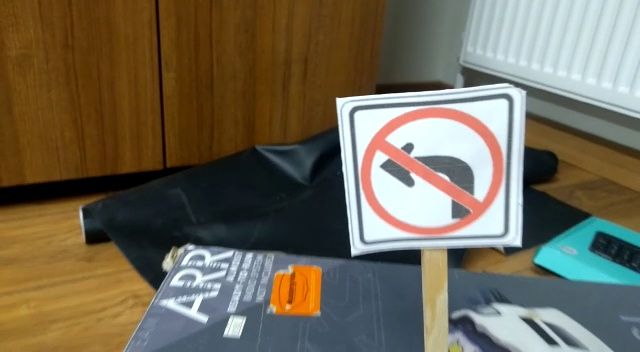sola_donulmez: (356, 95, 514, 247)
